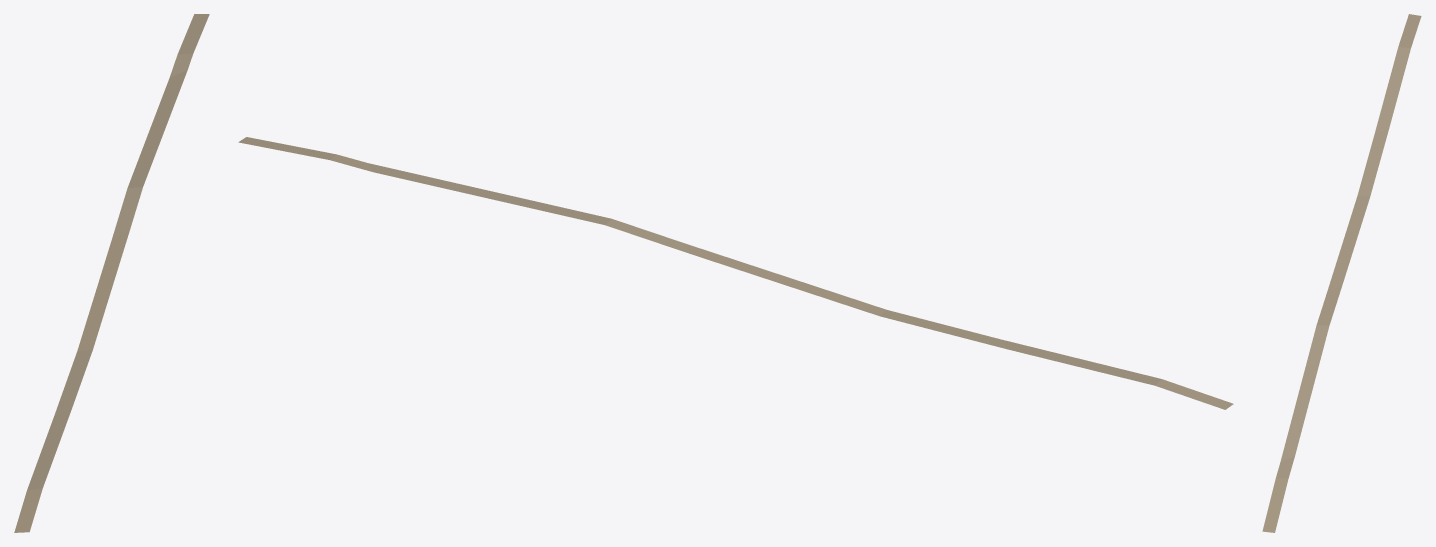
The model's file is farm_-32_-34_track.glb.
3 renders of one model, left to right at view 1: azimuth 90°, elevation 25°; view 2: azimuth 150°, elevation 25°; view 3: azimuth 270°, elevation 25°, orthographic. The views are drawn at different scales.
Parts seen in each view (by area): view 1: geometry_0; view 2: geometry_0; view 3: geometry_0.
Part boxes in pixels (x1,y1,x2,y2): geometry_0: [14, 14, 209, 532]; geometry_0: [238, 137, 1233, 409]; geometry_0: [1262, 14, 1421, 532].
Bounding box in the file's own units: 288 × 14.27 × 41.12.
